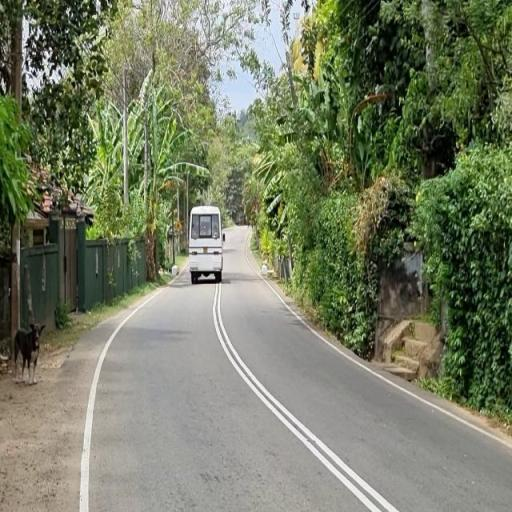double_white_line: (213, 291, 400, 510)
